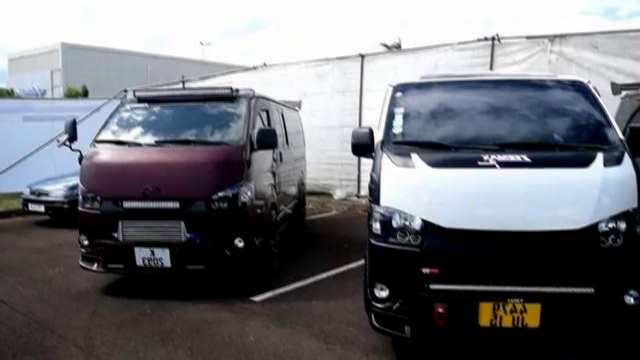van: (359, 71, 631, 327), (62, 74, 312, 292)
